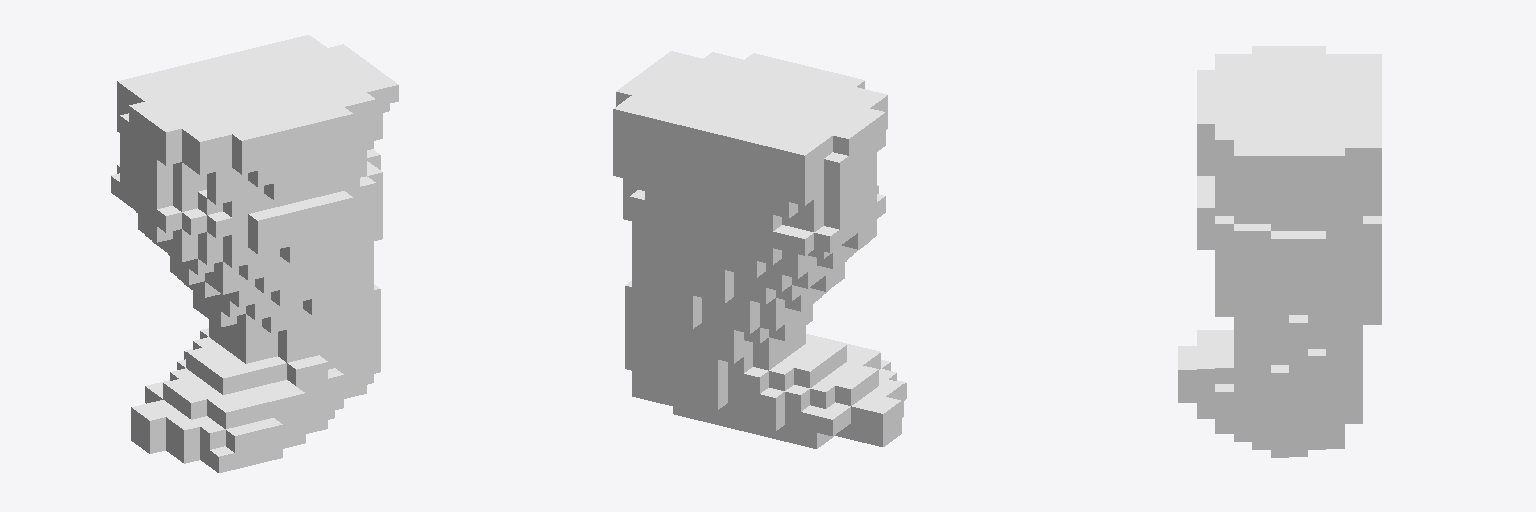
The model's file is bear_split-1-LegL.obj.
3 views of the same model, side by side, from view 1: azimuth 30°, elevation 25°; view 2: azimuth 150°, elevation 25°; view 3: azimuth 270°, elevation 25° (orthographic).
Parts seen in each view (by area): view 1: LegL; view 2: LegL; view 3: LegL.
Boxes of the visible parts, box(x1,y1,x2,y2) form: LegL: box(111, 35, 398, 472); LegL: box(613, 51, 906, 448); LegL: box(1178, 46, 1381, 457).
Bounding box in the file's own units: 1.5 × 1.9 × 1.1.